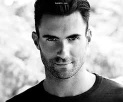male: (31, 2, 95, 83)
